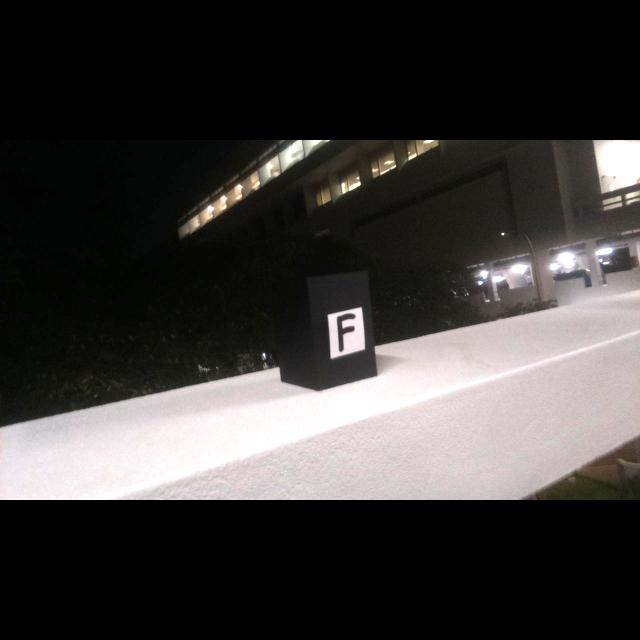F: (337, 313, 355, 351)
